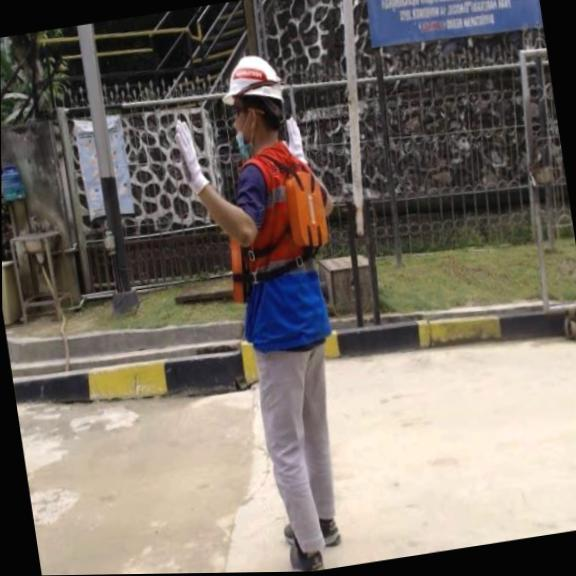safety_vest: (207, 166, 340, 309)
